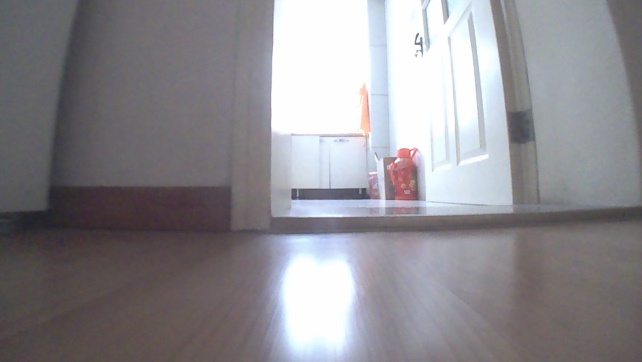door_anno: (405, 0, 545, 209)
